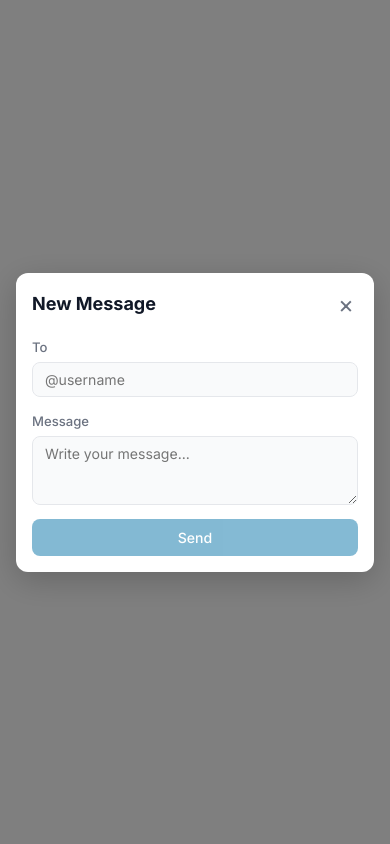
Test case: NewMessageModal › shows error on user not found
Type "nobody" into the field with placeholder "@username" at [195, 379], box [32,362,358,396]
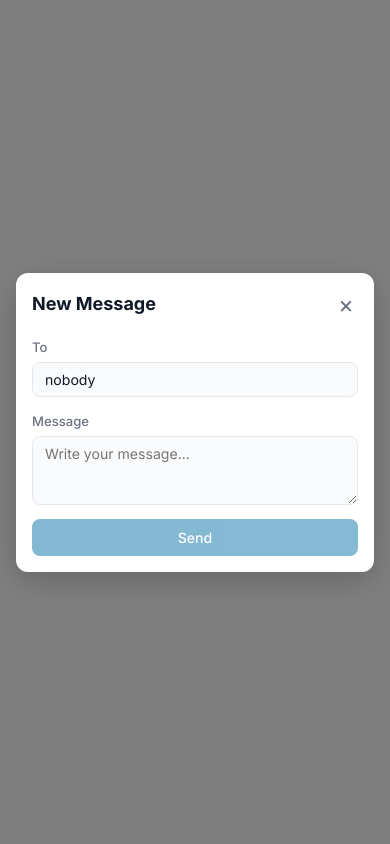
Type "Hello" into the text box with placeholder "Write your message..." at [195, 470], box [32,436,358,504]
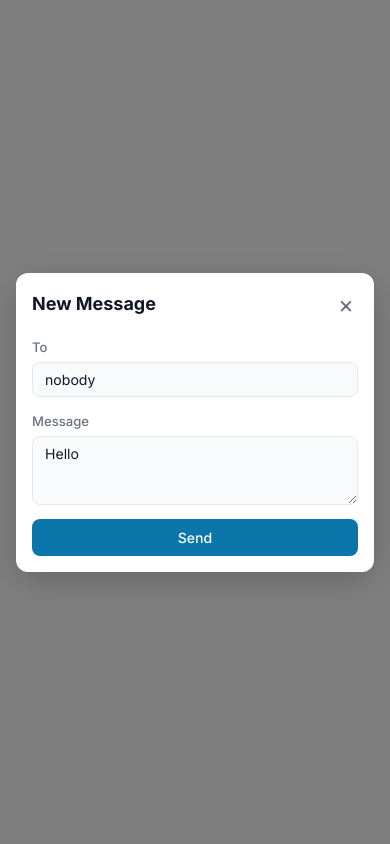
Click the button "Send" at [195, 537], box [32,518,358,556]
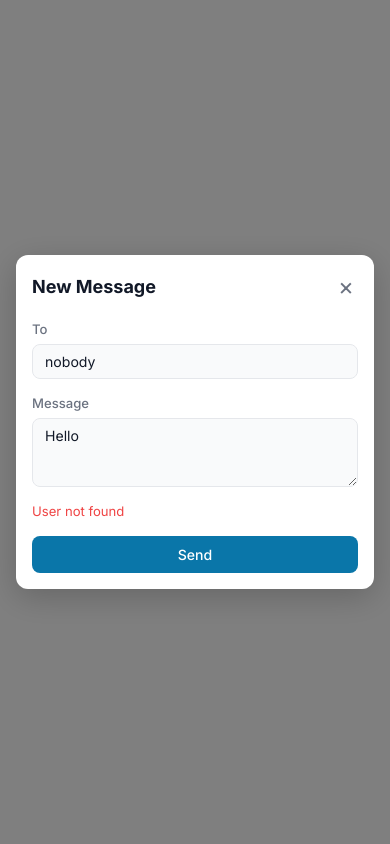
Now the message reads "User not found", box [32,503,124,519]
